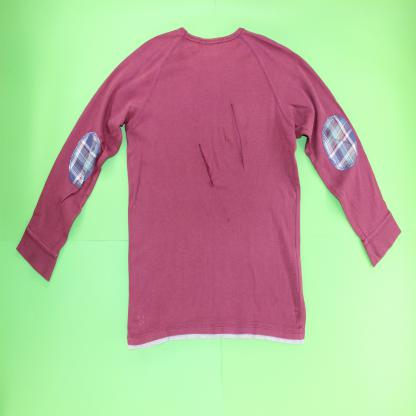hole: (226, 96, 249, 179), (195, 136, 219, 195)
